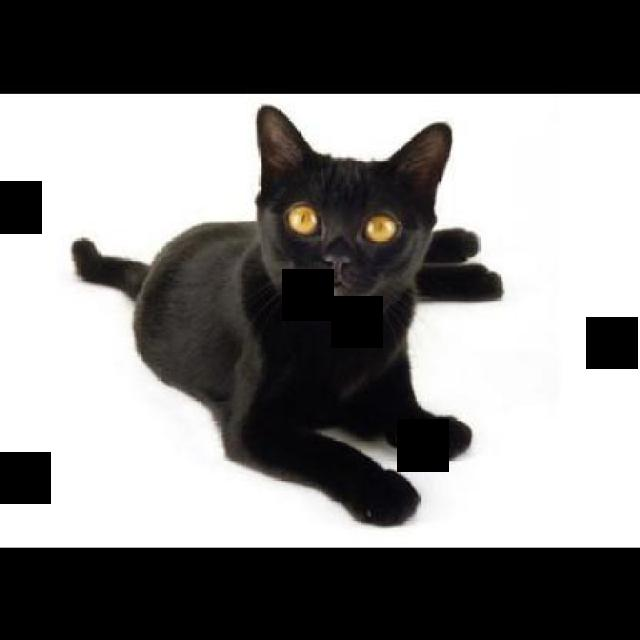unauthorized: (69, 103, 503, 526)
